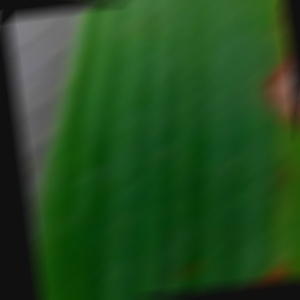Brown_Spot: (258, 37, 300, 134)
